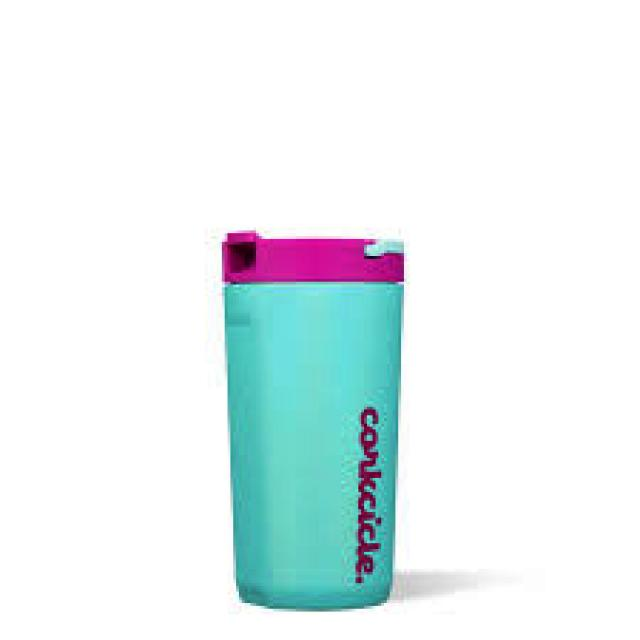bottle: (220, 231, 407, 608)
